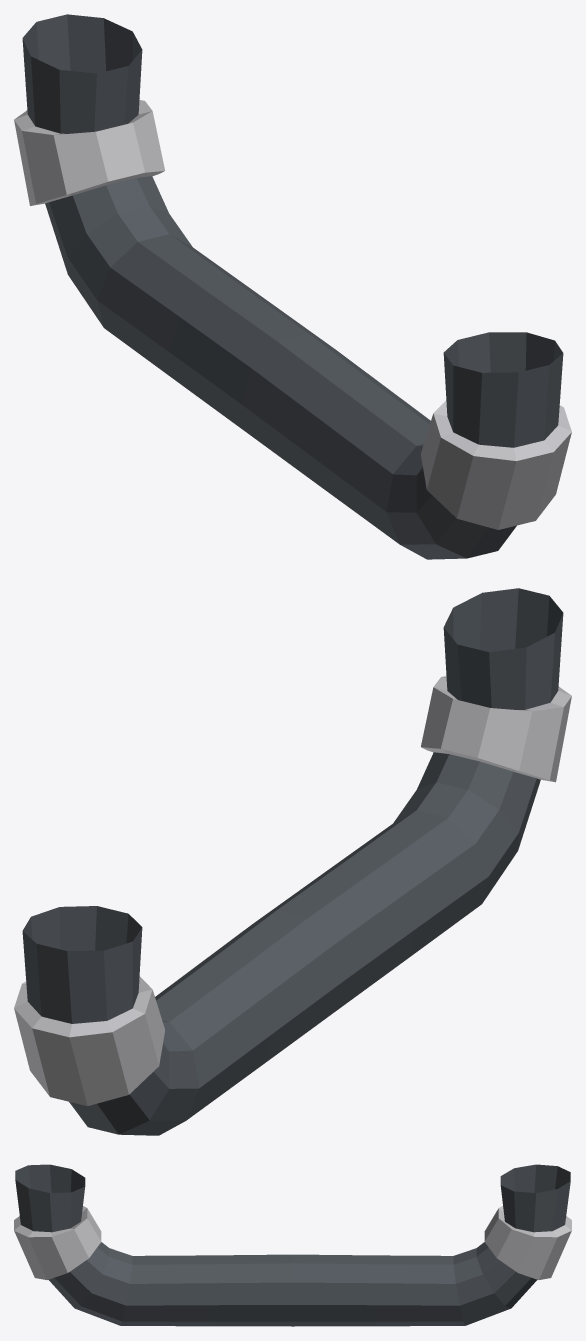
The model's file is Dropship_03_Piping_Small.fbx.
3 renders of one model, top to bottom at view 1: azimuth 30°, elevation 25°; view 2: azimuth 150°, elevation 25°; view 3: azimuth 270°, elevation 25°, orthographic. The views are drawn at different scales.
Parts seen in each view (by area): view 1: Dropship_03_Piping_Small; view 2: Dropship_03_Piping_Small; view 3: Dropship_03_Piping_Small.
Part boxes in pixels (x1=…): Dropship_03_Piping_Small: x1=14, y1=14, x2=571, y2=559; Dropship_03_Piping_Small: x1=14, y1=588, x2=571, y2=1135; Dropship_03_Piping_Small: x1=14, y1=1164, x2=571, y2=1326.
Bounding box in the file's own units: 18.57 × 36.77 × 127.
Materials: 1 (1 with a texture image).
